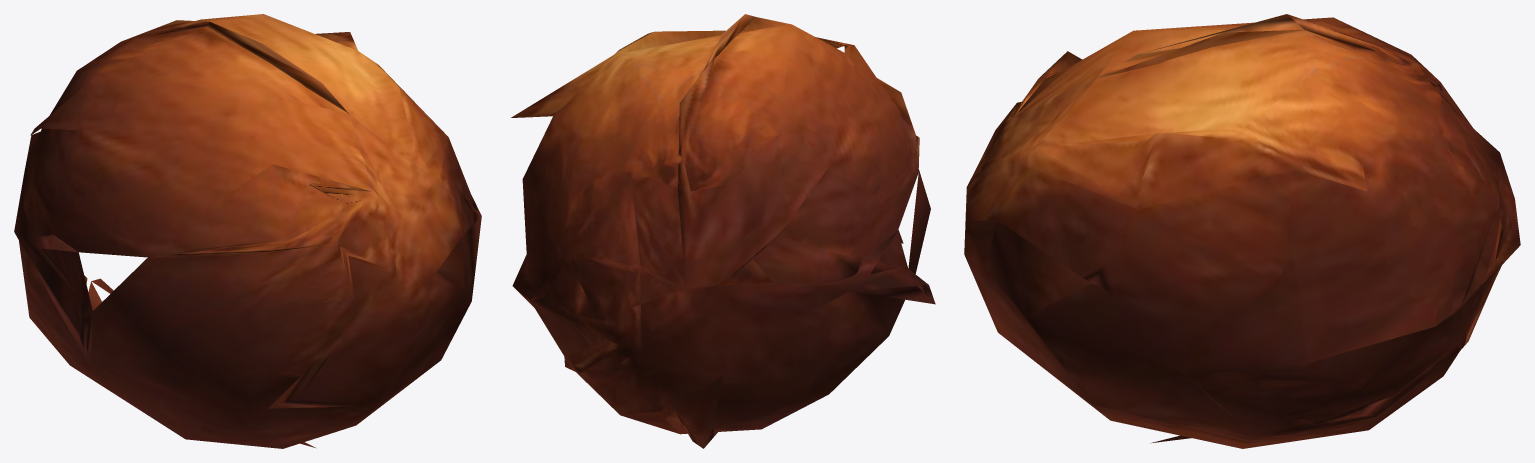
The model's file is coco-mobile.glb.
The picture shows the model from 3 angles, left to right: view 1: azimuth 30°, elevation 25°; view 2: azimuth 150°, elevation 25°; view 3: azimuth 270°, elevation 25°; orthographic projection. The views are drawn at different scales.
Parts seen in each view (by area): view 1: tripo_node_caccc252-07dc-4820-af6f-e807f3561730; view 2: tripo_node_caccc252-07dc-4820-af6f-e807f3561730; view 3: tripo_node_caccc252-07dc-4820-af6f-e807f3561730.
Boxes of the visible parts, bbox=[...] form: tripo_node_caccc252-07dc-4820-af6f-e807f3561730: bbox=[14, 14, 481, 448]; tripo_node_caccc252-07dc-4820-af6f-e807f3561730: bbox=[511, 14, 935, 448]; tripo_node_caccc252-07dc-4820-af6f-e807f3561730: bbox=[964, 14, 1520, 448].
Size of the model in its own units: 0.7798 by 0.7954 by 0.9681.
1 material, 1 textured.
